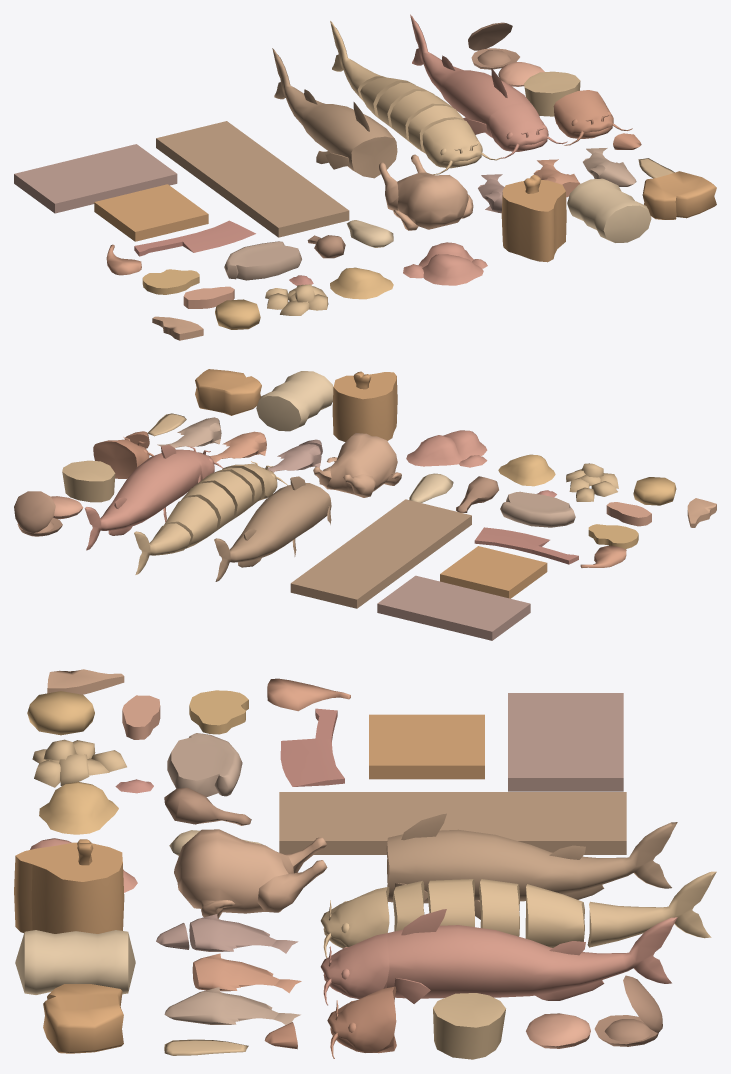
File: meat-all.glb
The picture shows the model from 3 angles, top to bottom: view 1: azimuth 30°, elevation 25°; view 2: azimuth 150°, elevation 25°; view 3: azimuth 270°, elevation 25°; orthographic projection. The views are drawn at different scales.
Visible parts, largest first — view 1: geo_long_wood_mat_meat_0, geo_sliced_catfish_mat_meat_0, geo_catfish_mat_meat_0, geo_rectangle_wood_mat_meat_0, geo_catfish_headless_mat_meat_0, geo_bigmeat_mat_meat_0, geo_fullchicken_mat_meat_0, geo_square_wood_mat_meat_0, geo_meatroll_mat_meat_0, geo_giantsteak_mat_meat_0, geo_catfish_head_mat_meat_0, geo_groundbeef_03_mat_meat_0 (+17 smaller); view 2: geo_long_wood_mat_meat_0, geo_sliced_catfish_mat_meat_0, geo_rectangle_wood_mat_meat_0, geo_catfish_mat_meat_0, geo_catfish_headless_mat_meat_0, geo_bigmeat_mat_meat_0, geo_fullchicken_mat_meat_0, geo_square_wood_mat_meat_0, geo_meatroll_mat_meat_0, geo_giantsteak_mat_meat_0, geo_groundbeef_03_mat_meat_0, geo_porkslab_mat_meat_0 (+18 smaller); view 3: geo_catfish_mat_meat_0, geo_long_wood_mat_meat_0, geo_sliced_catfish_mat_meat_0, geo_catfish_headless_mat_meat_0, geo_rectangle_wood_mat_meat_0, geo_bigmeat_mat_meat_0, geo_fullchicken_mat_meat_0, geo_square_wood_mat_meat_0, geo_meatroll_mat_meat_0, geo_giantsteak_mat_meat_0, geo_catfish_slice_mat_meat_0, geo_porkslab_mat_meat_0 (+16 smaller).
Part boxes in pixels (x1,y1,x2,y2): geo_long_wood_mat_meat_0: (156,121,349,237); geo_sliced_catfish_mat_meat_0: (330,21,501,174); geo_catfish_mat_meat_0: (410,14,567,158); geo_rectangle_wood_mat_meat_0: (14,144,177,213); geo_catfish_headless_mat_meat_0: (272,48,397,178); geo_bigmeat_mat_meat_0: (501,174,566,262); geo_fullchicken_mat_meat_0: (379,154,473,230); geo_square_wood_mat_meat_0: (94,184,208,241); geo_meatroll_mat_meat_0: (567,178,651,242); geo_giantsteak_mat_meat_0: (642,171,716,219); geo_catfish_head_mat_meat_0: (553,90,632,145); geo_groundbeef_03_mat_meat_0: (403,242,487,285); geo_long_wood_mat_meat_0: (290,499,471,608); geo_sliced_catfish_mat_meat_0: (134,461,288,574); geo_rectangle_wood_mat_meat_0: (377,575,530,640); geo_catfish_mat_meat_0: (84,445,222,550); geo_catfish_headless_mat_meat_0: (214,476,331,581); geo_bigmeat_mat_meat_0: (332,371,397,441); geo_fullchicken_mat_meat_0: (313,433,401,497); geo_square_wood_mat_meat_0: (440,546,547,598); geo_meatroll_mat_meat_0: (256,371,333,431); geo_giantsteak_mat_meat_0: (195,369,261,415); geo_groundbeef_03_mat_meat_0: (406,430,487,467); geo_porkslab_mat_meat_0: (500,491,575,527); geo_catfish_mat_meat_0: (320,909,677,1005); geo_long_wood_mat_meat_0: (279,792,626,854); geo_sliced_catfish_mat_meat_0: (320,871,716,958); geo_catfish_headless_mat_meat_0: (386,813,677,919); geo_rectangle_wood_mat_meat_0: (508,693,623,791); geo_bigmeat_mat_meat_0: (14,839,124,933); geo_fullchicken_mat_meat_0: (174,829,327,918); geo_square_wood_mat_meat_0: (369,714,484,779); geo_meatroll_mat_meat_0: (15,930,135,994); geo_giantsteak_mat_meat_0: (43,984,123,1053); geo_catfish_slice_mat_meat_0: (433,993,505,1059); geo_porkslab_mat_meat_0: (167,733,242,796).
Bounding box in the file's own units: 12716 × 1590 × 9790.
